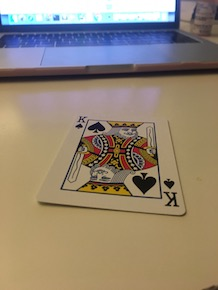KingOfSpades: (27, 103, 191, 219)
